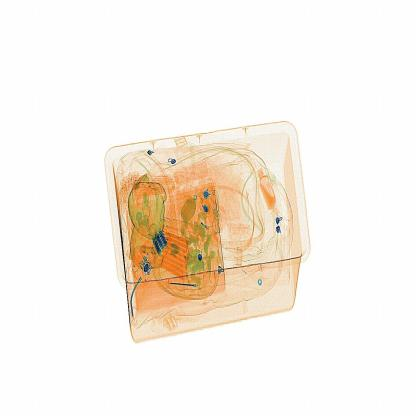wrench: (170, 281, 203, 296)
